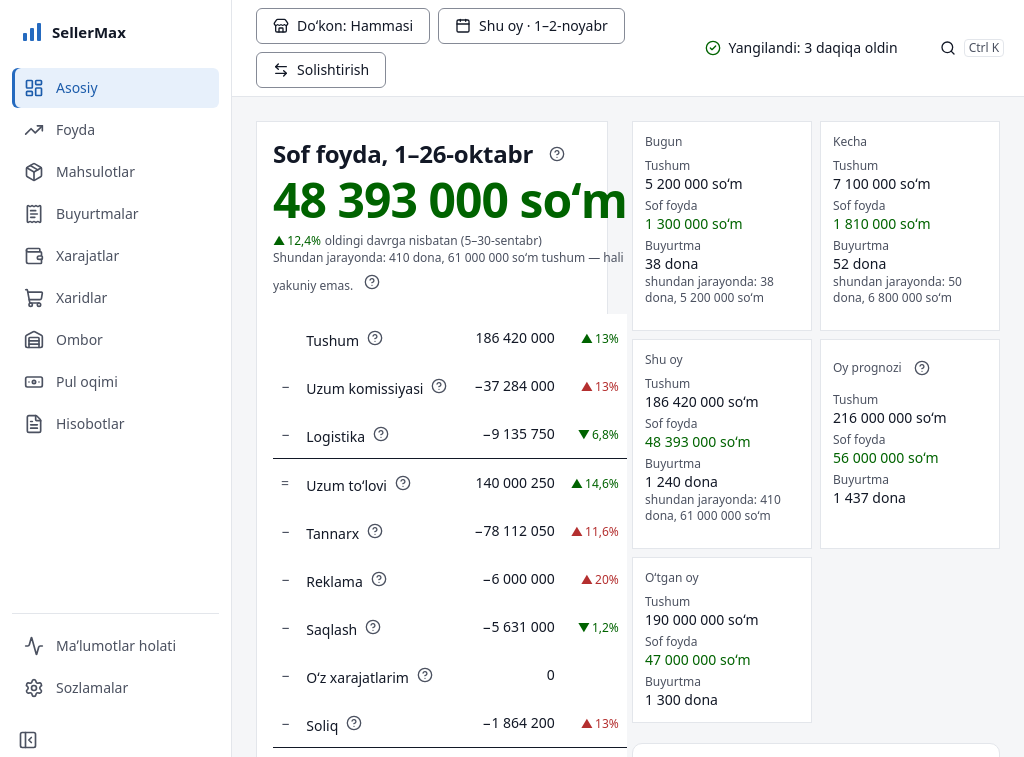
drill-down › Tannarx: taxminiy belgi (F22) va qiymat ustuni tannarx
Check: the text with test id "net-profit" is shown, box [273, 174, 627, 226]
Click the button "Tannarx" at coordinates (333, 534), box [306, 524, 359, 544]
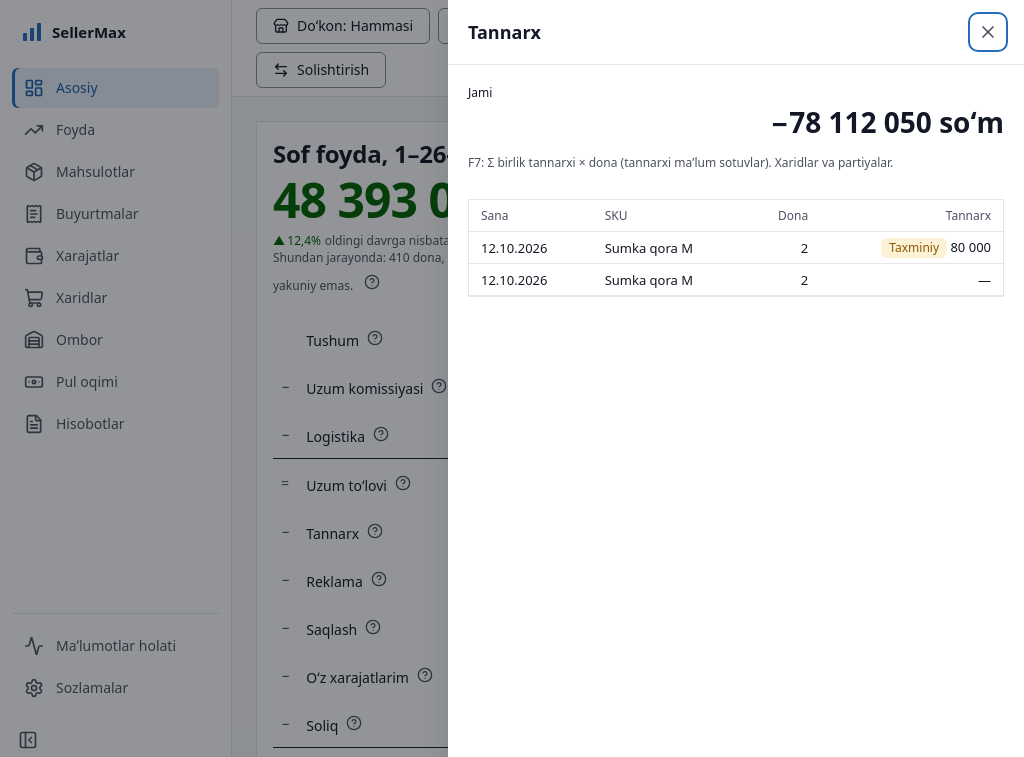
Check: the text "Taxminiy" is shown, box [881, 238, 947, 258]
Check: the column heading "Tannarx" is shown, box [820, 200, 1003, 232]
